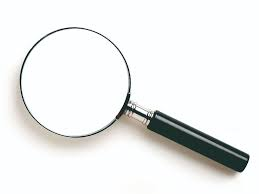magnifying-glass: (12, 23, 163, 154)
